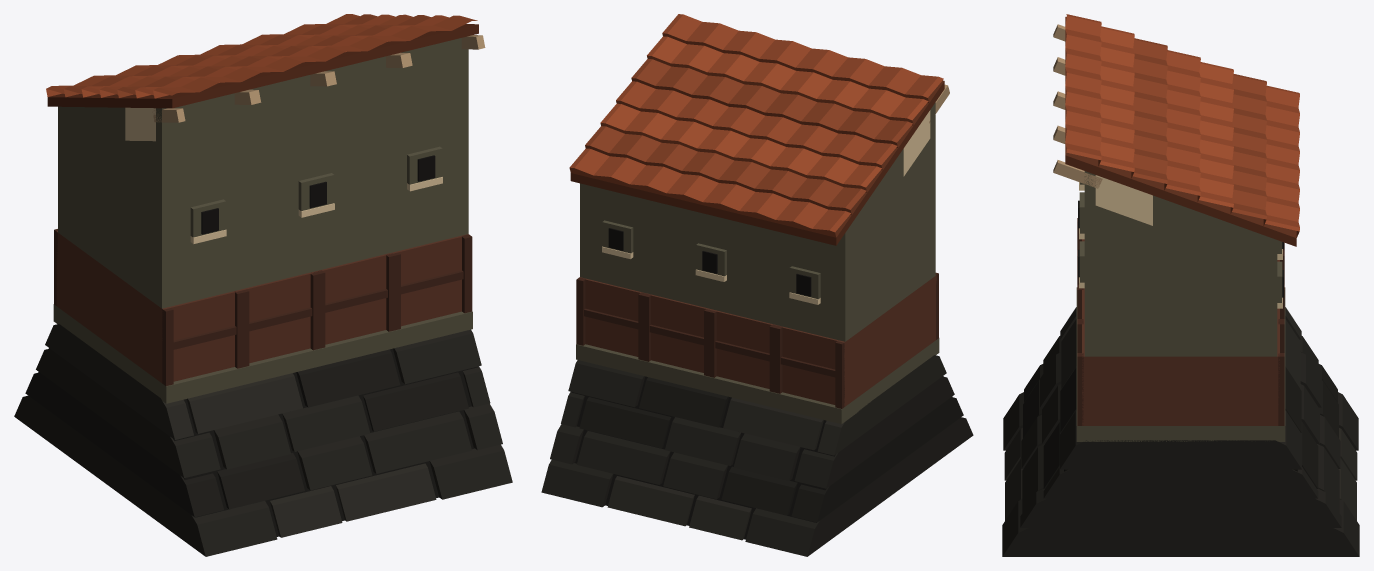
The model's file is VerWall03.glb.
The picture shows the model from 3 angles, left to right: view 1: azimuth 30°, elevation 25°; view 2: azimuth 150°, elevation 25°; view 3: azimuth 270°, elevation 25°; orthographic projection. The views are drawn at different scales.
Parts seen in each view (by area): view 1: VerWall03_mortar; view 2: VerWall03_mortar; view 3: VerWall03_mortar.
Boxes of the visible parts, x1,y1,x2,y2 form: VerWall03_mortar: (14,14,512,556); VerWall03_mortar: (541,14,973,556); VerWall03_mortar: (1002,14,1359,556).
Bounding box in the file's own units: 4.08 × 5.57 × 4.45.
